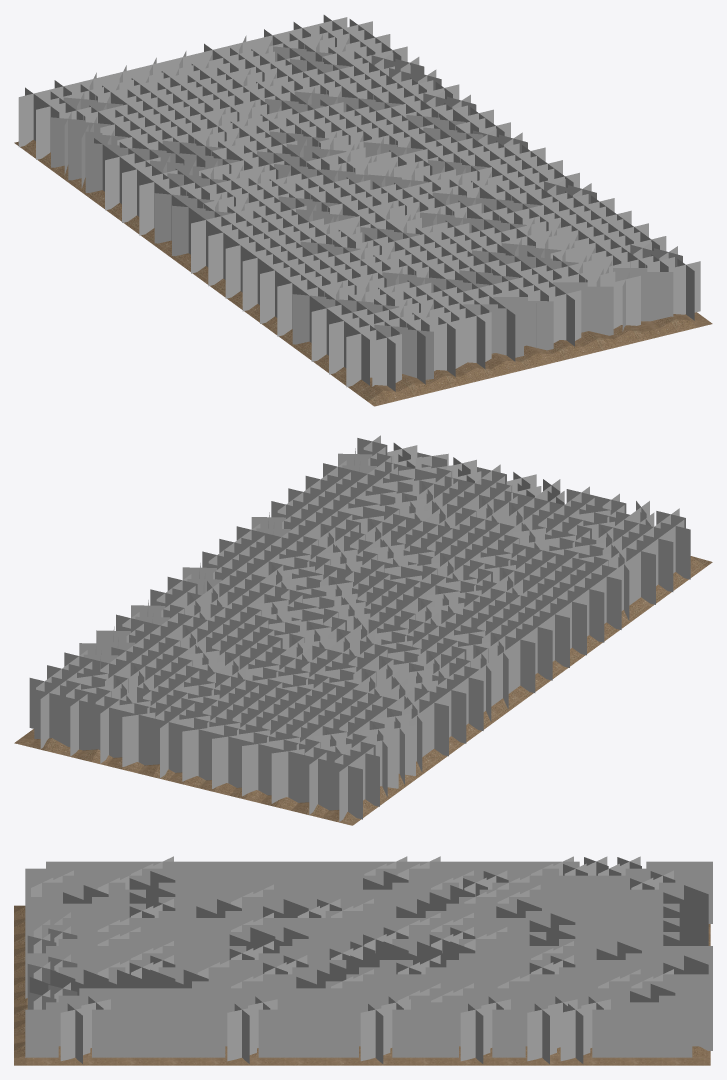
Rendered from Wheat.fbx.
3 views of the same model, one above another, from view 1: azimuth 30°, elevation 25°; view 2: azimuth 150°, elevation 25°; view 3: azimuth 270°, elevation 25° (orthographic). The views are drawn at different scales.
Visible parts, largest first — view 1: Wheat, Plane; view 2: Wheat, Plane; view 3: Wheat, Plane.
Boxes of the visible parts, box(x1,y1,x2,y2) form: Wheat: box(18, 15, 700, 391); Plane: box(14, 139, 712, 406); Wheat: box(29, 435, 690, 821); Plane: box(14, 556, 712, 825); Wheat: box(25, 856, 712, 1063); Plane: box(14, 905, 710, 1065).
Bounding box in the file's own units: 1011 × 145 × 1842.
